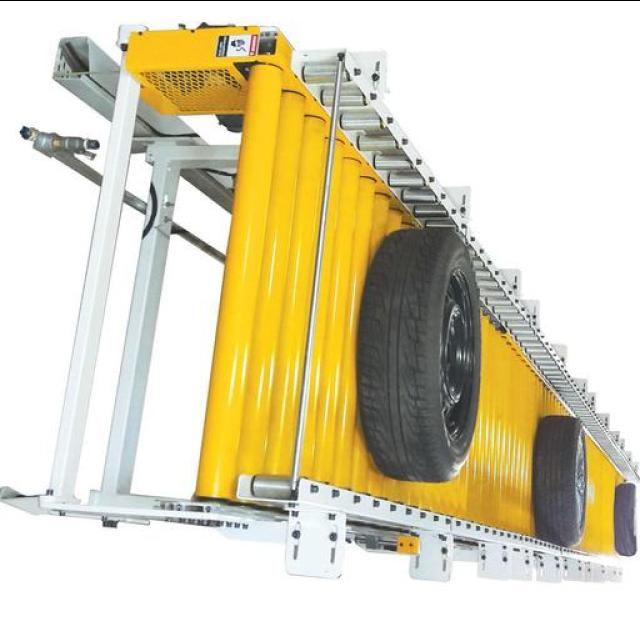conveyor: (205, 51, 640, 559)
